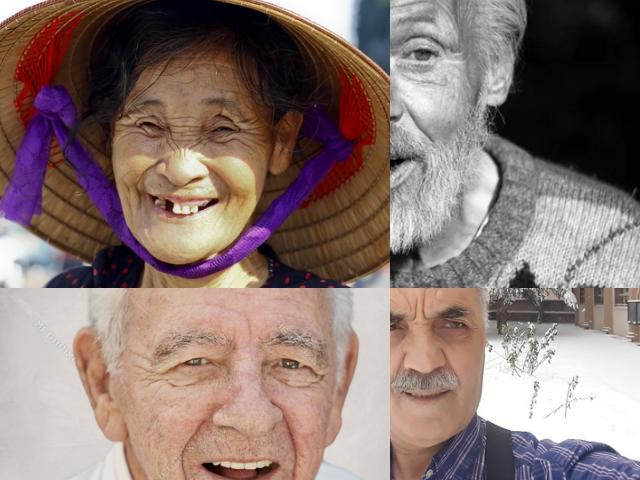bunny_line: (165, 134, 185, 156)
crows_feet: (140, 364, 170, 388), (239, 120, 259, 150), (118, 112, 136, 136), (468, 322, 482, 338)
forehead: (273, 290, 313, 312), (194, 56, 226, 70), (393, 0, 437, 9)
frown_line: (172, 123, 200, 144), (410, 301, 430, 329), (244, 315, 258, 349), (172, 112, 200, 120)
gummy_smile: (280, 412, 302, 477), (180, 414, 206, 458), (407, 108, 433, 146), (136, 154, 162, 186), (210, 166, 234, 196), (393, 347, 407, 379), (440, 348, 454, 370)
masseter: (118, 179, 134, 213)
sad_smile: (176, 466, 196, 480), (134, 190, 144, 216)
